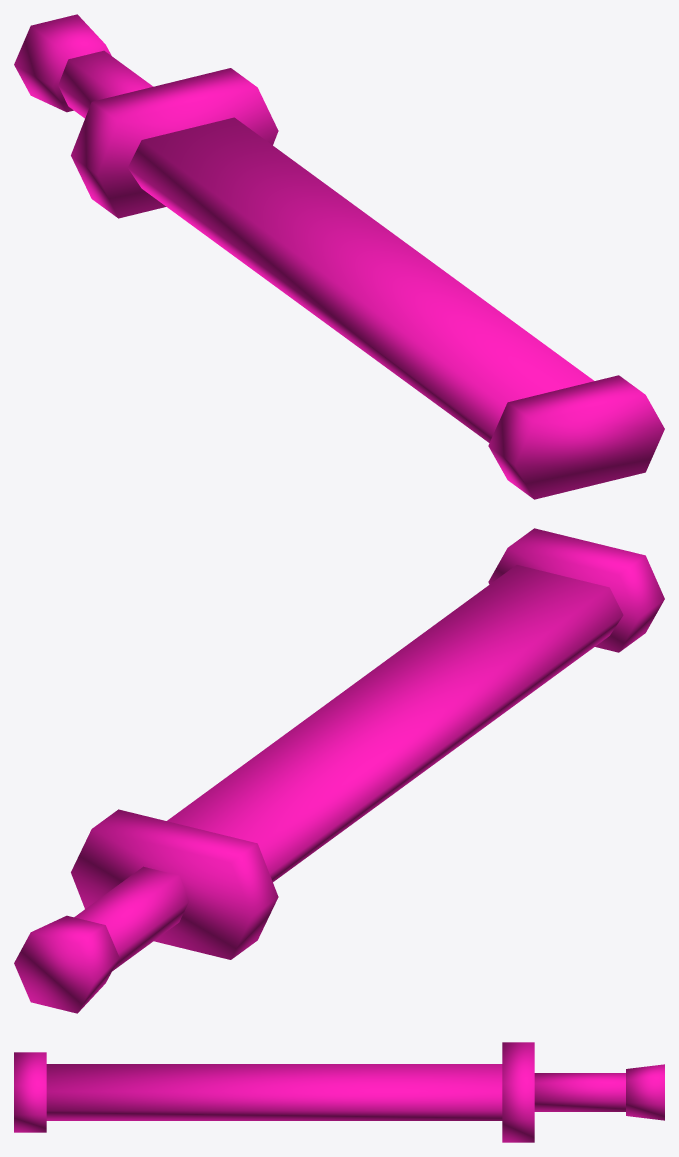
The model's file is swordThrow.fbx.
3 renders of one model, top to bottom at view 1: azimuth 30°, elevation 25°; view 2: azimuth 150°, elevation 25°; view 3: azimuth 270°, elevation 25°, orthographic. The views are drawn at different scales.
Visible parts, largest first — view 1: swordThrow; view 2: swordThrow; view 3: swordThrow.
Boxes of the visible parts, <box> form: swordThrow: <box>14,14,664,499</box>; swordThrow: <box>14,528,664,1013</box>; swordThrow: <box>14,1042,664,1142</box>.
Bounding box in the file's own units: 39 × 20 × 200.
1 material, 1 textured.
